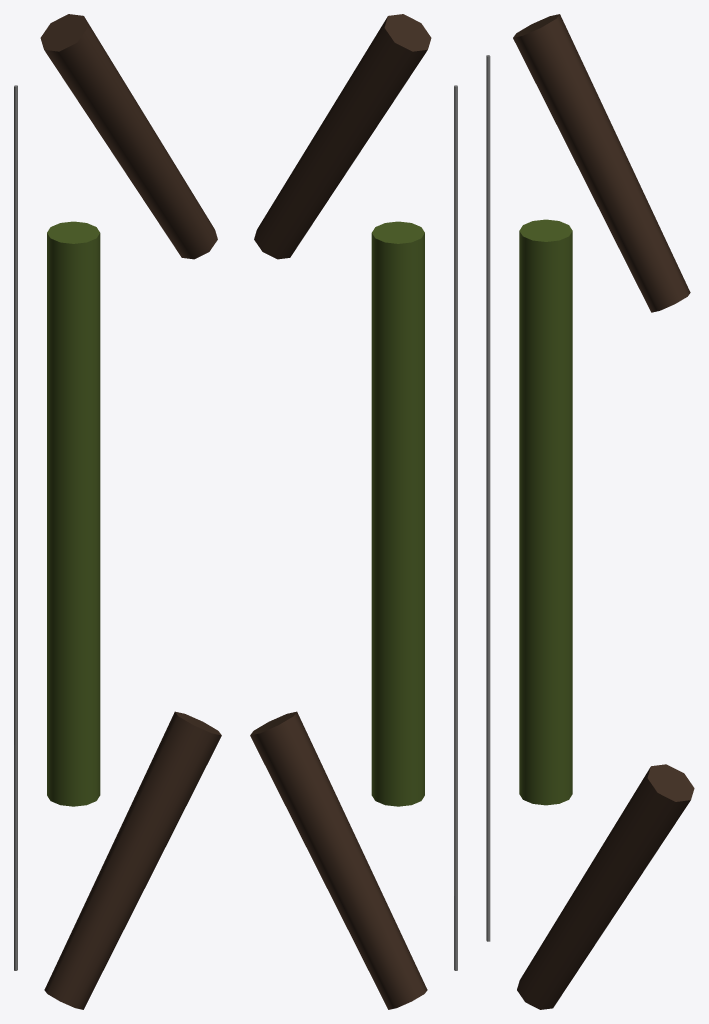
The model's file is hunter_bow.glb.
The picture shows the model from 3 angles, left to right: view 1: azimuth 30°, elevation 25°; view 2: azimuth 150°, elevation 25°; view 3: azimuth 330°, elevation 25°; orthographic projection.
Parts seen in each view (by area): view 1: Bow; view 2: Bow; view 3: Bow.
Boxes of the visible parts, x1,y1,x2,y2 form: Bow: [14, 14, 221, 1009]; Bow: [250, 14, 457, 1009]; Bow: [486, 14, 694, 1009].
Size of the model in its own units: 0.532 by 2.46 by 0.12.
